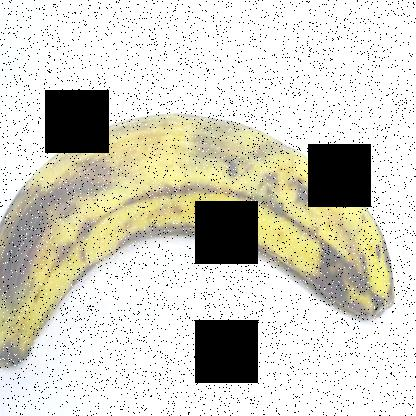overripe: (1, 89, 402, 375)
